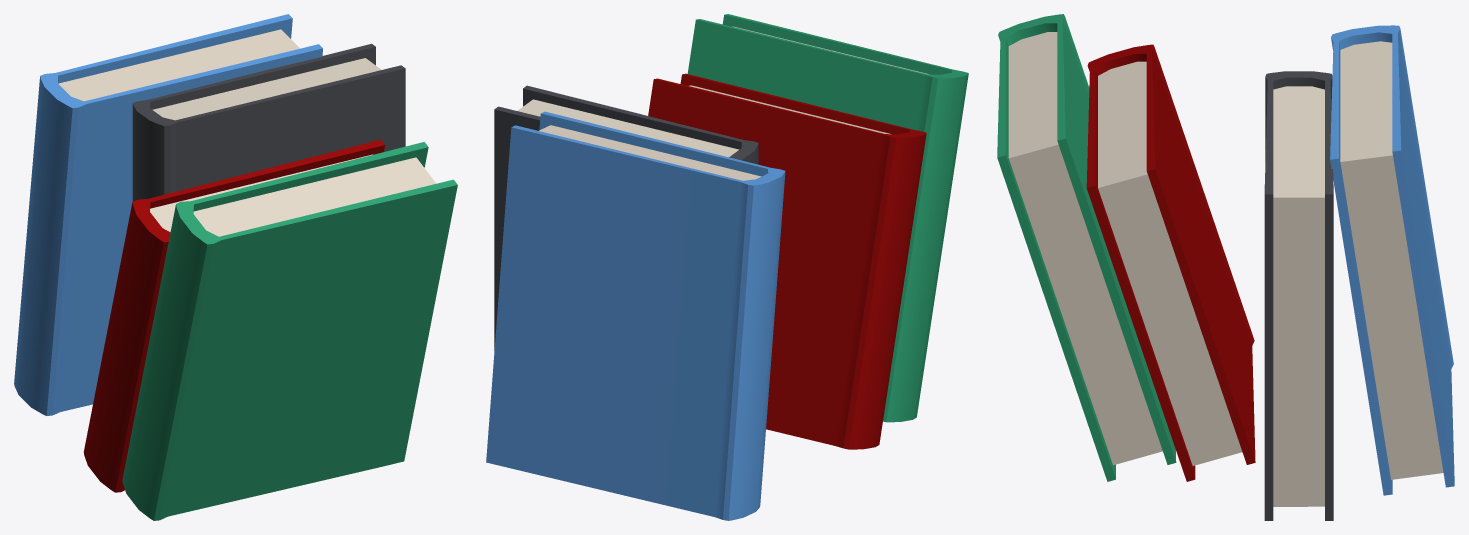
Rendered from BookPile10.fbx.
3 renders of one model, left to right at view 1: azimuth 30°, elevation 25°; view 2: azimuth 150°, elevation 25°; view 3: azimuth 270°, elevation 25°, orthographic. The views are drawn at different scales.
Parts seen in each view (by area): view 1: polySurface126; view 2: polySurface126; view 3: polySurface126.
Boxes of the visible parts, x1,y1,x2,y2 form: polySurface126: (14,14,457,520); polySurface126: (486,14,968,520); polySurface126: (997,14,1454,520).
Bounding box in the file's own units: 0.5898 × 0.5695 × 0.6841.
